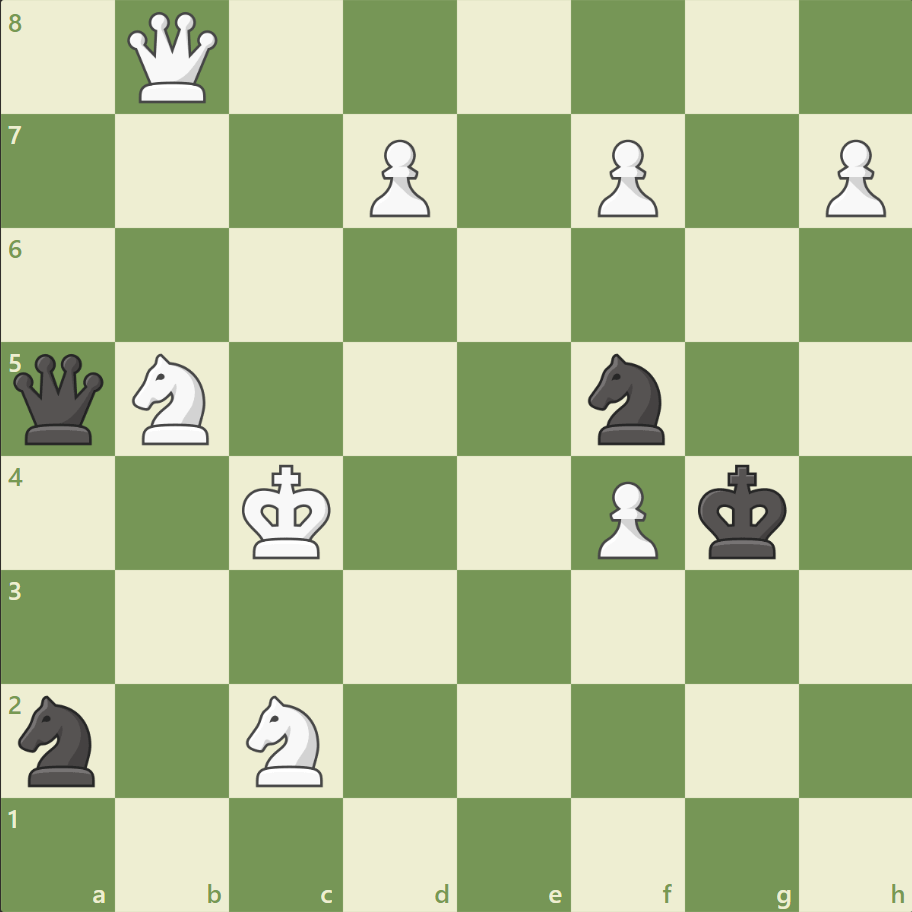K: (238, 458, 338, 566)
N: (124, 348, 222, 450), (238, 688, 335, 791)
P: (361, 132, 435, 223), (588, 132, 662, 223), (815, 132, 889, 223), (588, 473, 662, 564)
Q: (124, 9, 223, 108)
k: (692, 458, 792, 566)
n: (11, 688, 108, 791), (579, 348, 676, 450)
q: (10, 349, 109, 449)
